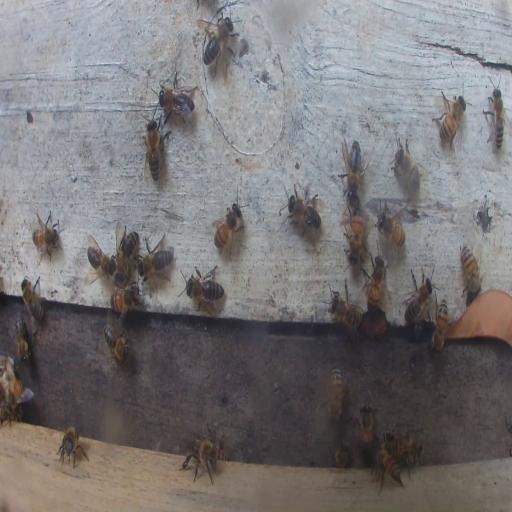bee: (180, 262, 224, 313), (281, 186, 323, 237), (181, 435, 222, 486), (200, 16, 234, 74), (434, 90, 466, 151), (403, 267, 434, 327), (391, 136, 422, 194), (325, 286, 363, 332), (31, 207, 62, 262), (370, 445, 404, 494), (340, 136, 366, 198), (213, 202, 243, 255), (144, 114, 166, 184), (138, 238, 174, 280), (486, 84, 506, 152), (157, 82, 195, 117), (86, 236, 116, 280), (57, 425, 87, 468), (375, 206, 406, 247), (114, 225, 136, 280), (20, 275, 45, 323), (460, 244, 482, 297), (344, 202, 364, 260), (391, 432, 424, 466), (364, 256, 385, 308), (103, 323, 130, 363), (432, 296, 449, 353), (328, 366, 344, 426), (110, 286, 141, 315), (6, 369, 29, 406), (358, 404, 374, 454), (15, 313, 28, 364), (1, 400, 22, 426), (331, 440, 349, 468), (386, 431, 398, 453)
